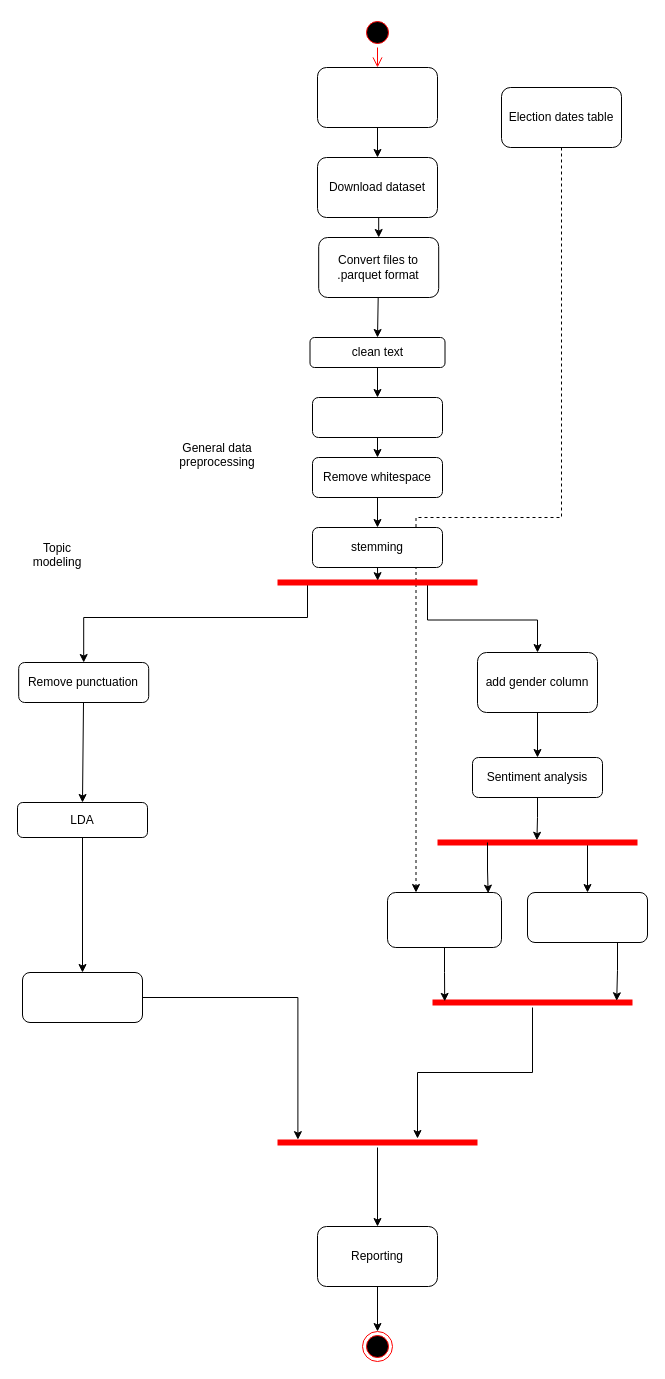
This 665x1379 diagram has some shape labels left out. The shapes that lost their labels are listed below. From the top down, each one's centre as x and y in pixels, then its label:
(377,97): Open-Discourse Plenar discussions dataset
(377,417): Remove stop words
(444,920): Plot sentiment before elections
(587,917): Plot sentiment by gender and party
(82,997): Plot topics over time and by party
